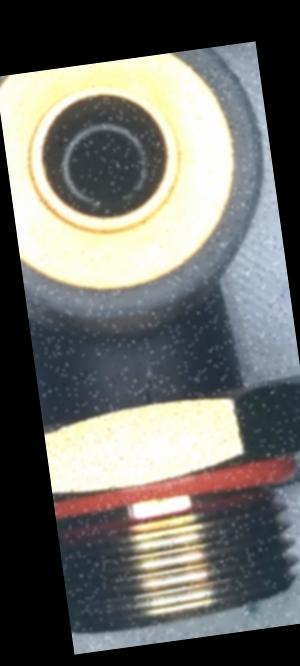craze: (137, 372, 161, 411)
